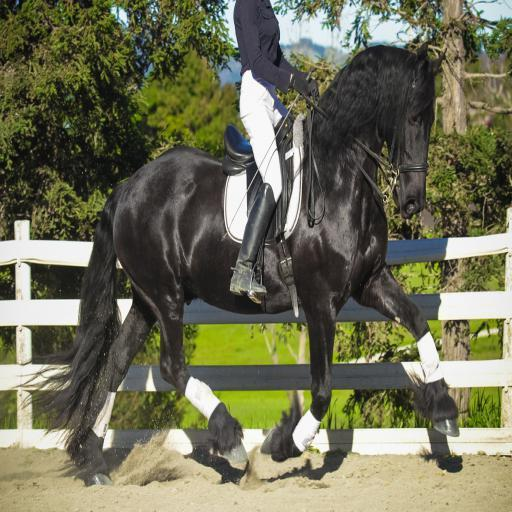horse: (14, 39, 460, 488)
